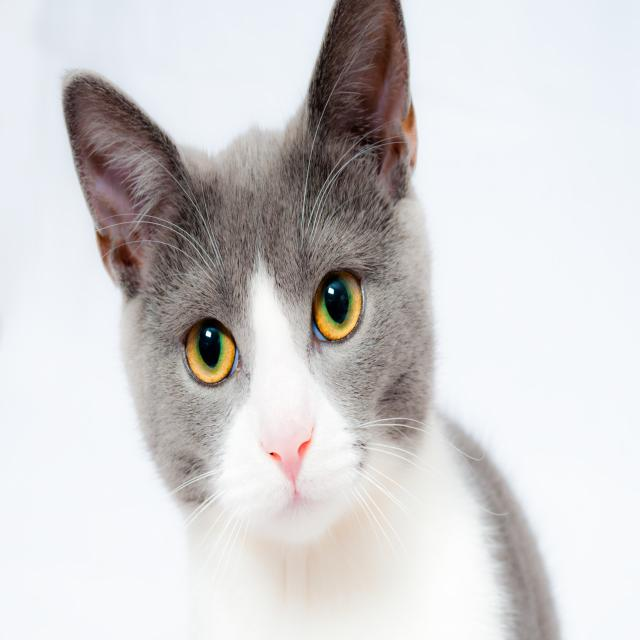Cat: (55, 0, 567, 640)
